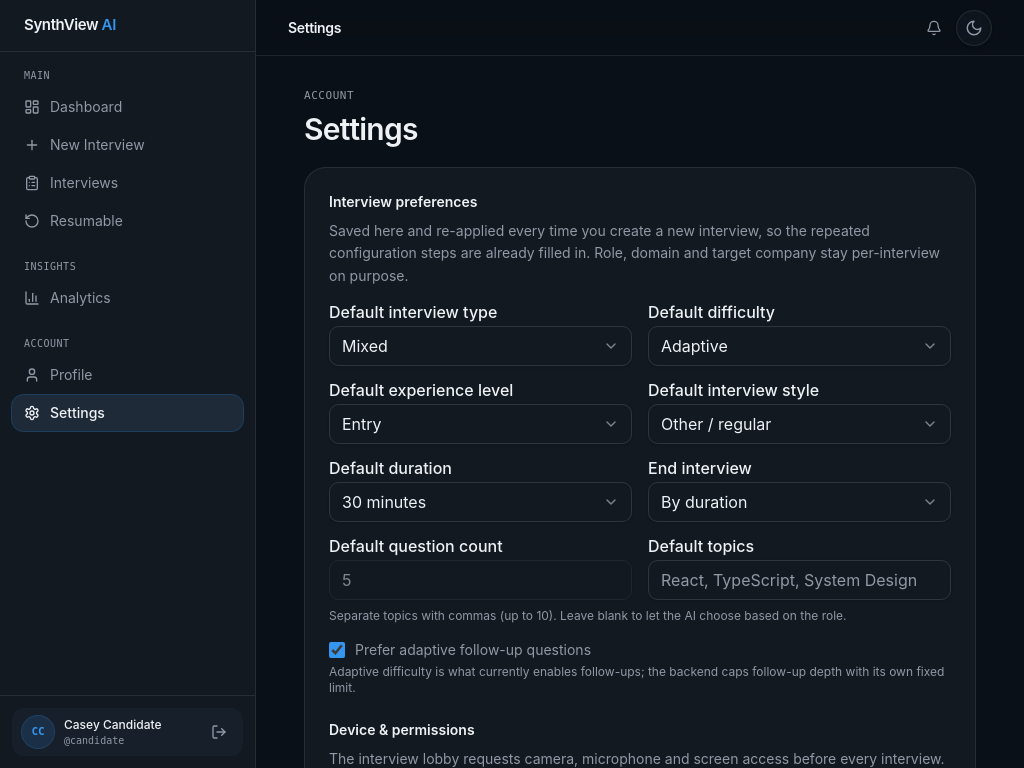
Scenario: settings interview preferences › saves device choices, the screen-share prompt and interview defaults
# Checkbox and text inputs still use fireEvent.
Type "React, SQL" into the field labelled "Default topics".
click(800, 580); type("React, SQL")  # box [648,560,951,600]
(page scrolled)
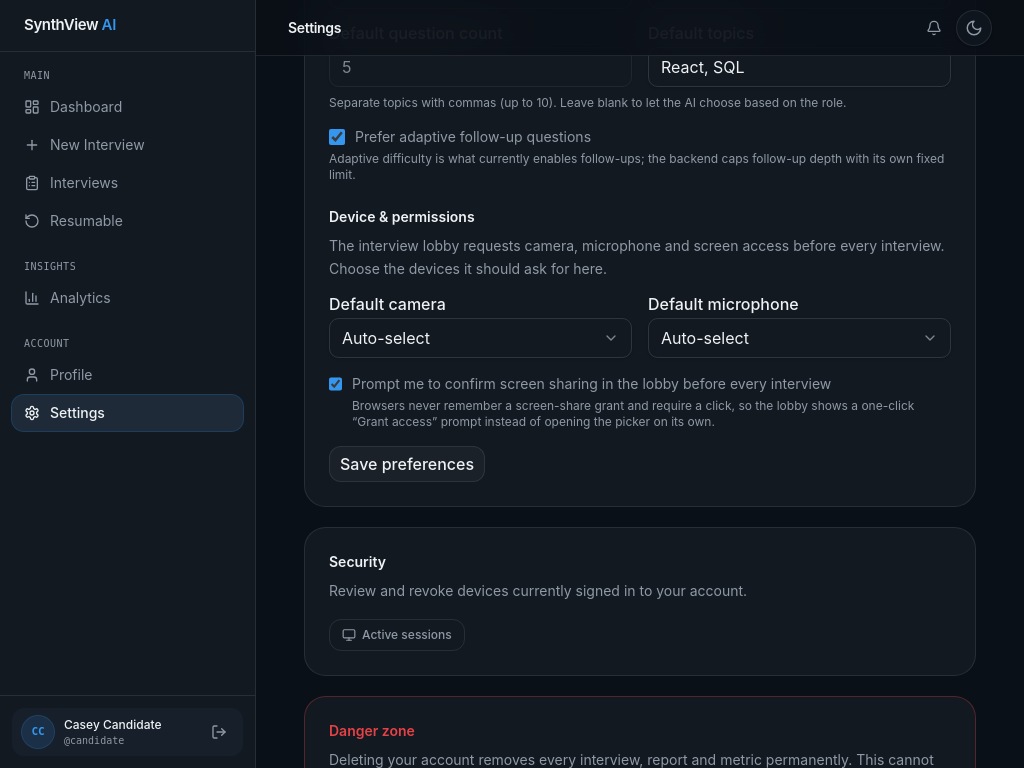
Click the checkbox labelled "Prompt me to confirm screen sharing".
click(336, 384)  # box [329,376,342,392]
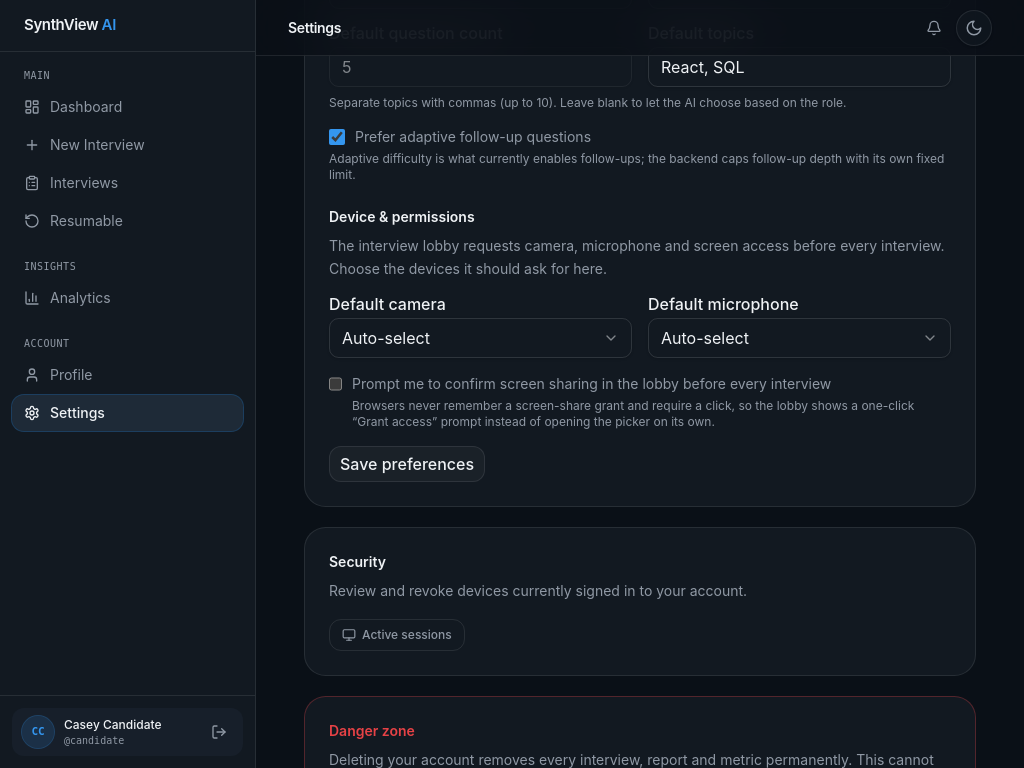
Click the button "Save preferences".
click(407, 464)  # box [329,446,485,482]
(page scrolled)
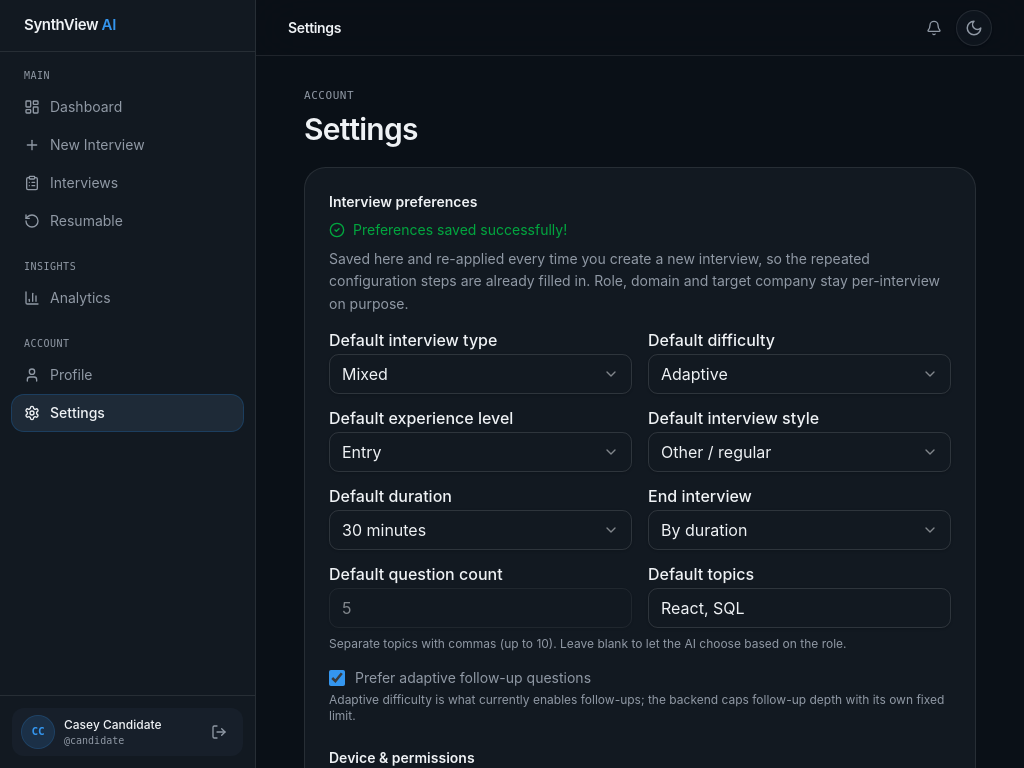
Expected: the text "Adaptive" is shown, [661,362,728,386]
Expected: the text "Preferences saved successfully!" is shown, [353,220,567,240]
